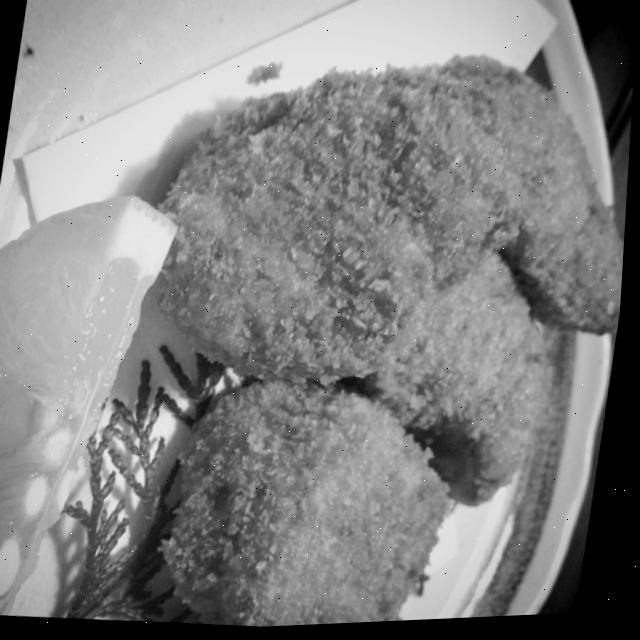牛肉菜式: (55, 0, 640, 637)
